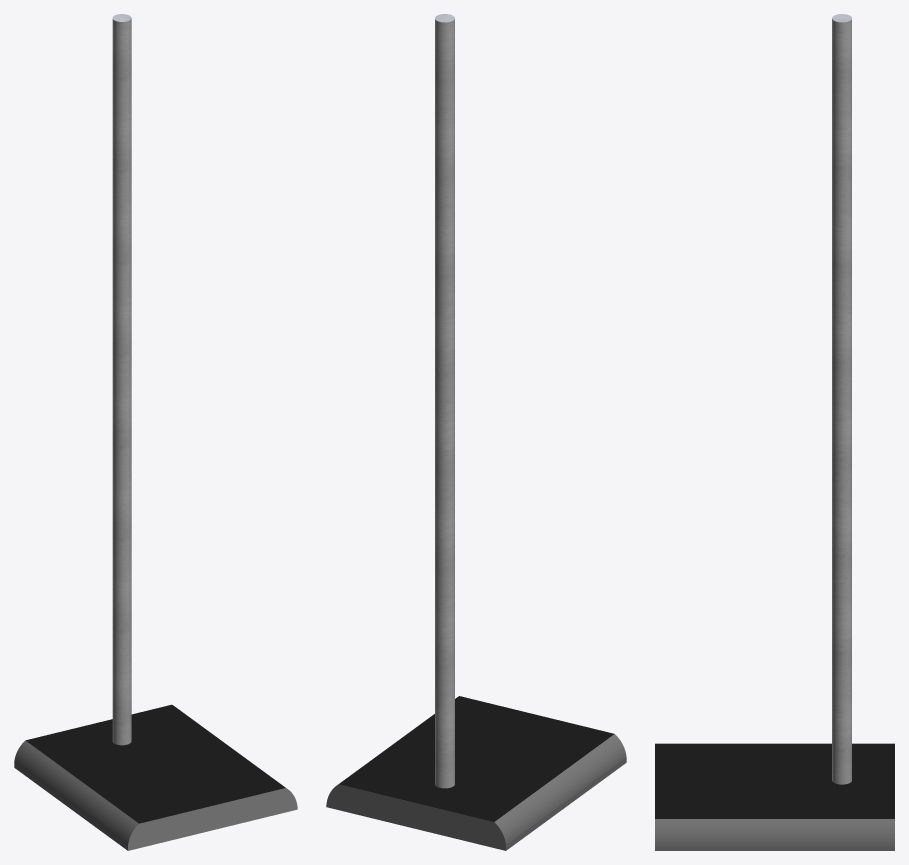
3 renders of one model, left to right at view 1: azimuth 30°, elevation 25°; view 2: azimuth 150°, elevation 25°; view 3: azimuth 270°, elevation 25°, orthographic. The views are drawn at different scales.
Visible parts, largest first — view 1: root; view 2: root; view 3: root.
Part boxes in pixels (x1=…): root: x1=14, y1=14, x2=297, y2=850; root: x1=326, y1=14, x2=626, y2=850; root: x1=655, y1=14, x2=894, y2=850.
Bounding box in the file's own units: 2.94 × 12.37 × 3.41.
Materials: 6 (2 with a texture image).
